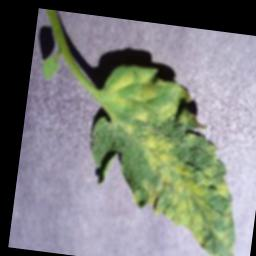Leaf_Mold: (84, 62, 256, 256)
